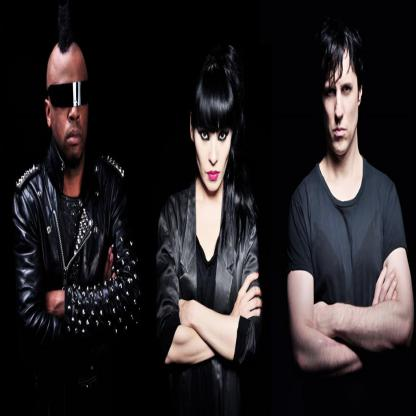face: (53, 51, 93, 162), (322, 51, 358, 157), (195, 104, 233, 193)
